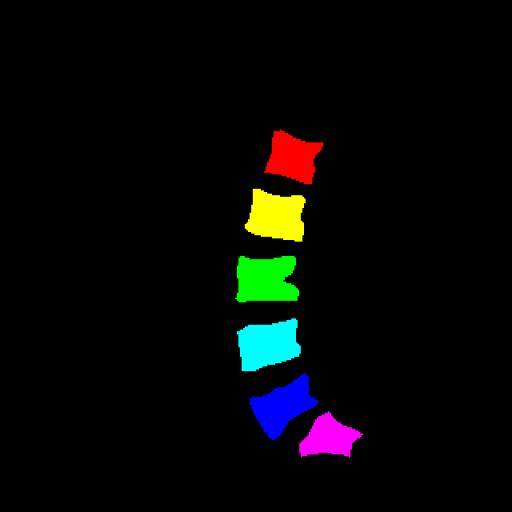L1: (265, 130, 323, 184)
L2: (245, 189, 305, 242)
L3: (236, 256, 299, 302)
L4: (237, 318, 301, 370)
L5: (250, 374, 318, 440)
S1: (299, 412, 363, 457)
